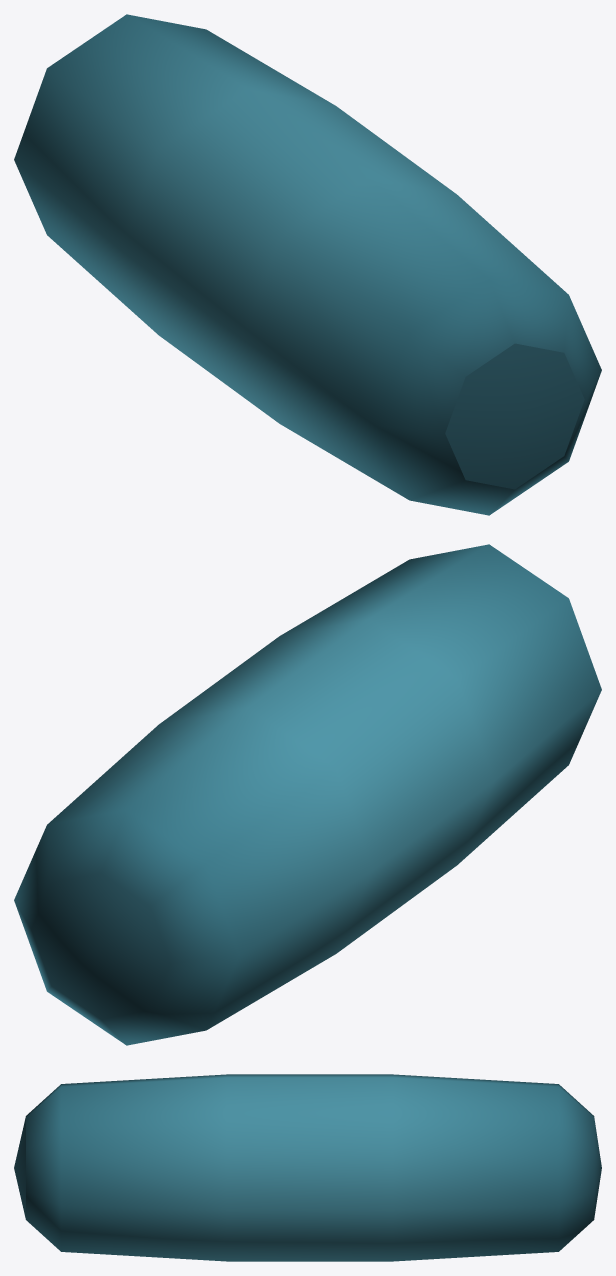
Rendered from microscopic-bacteria-segmented-bacterium_v3.glb.
3 views of the same model, one above another, from view 1: azimuth 30°, elevation 25°; view 2: azimuth 150°, elevation 25°; view 3: azimuth 270°, elevation 25° (orthographic). The views are drawn at different scales.
Parts seen in each view (by area): view 1: Segmented Bacterium_v3; view 2: Segmented Bacterium_v3; view 3: Segmented Bacterium_v3.
Boxes of the visible parts, x1=… form: Segmented Bacterium_v3: x1=14, y1=14, x2=601, y2=515; Segmented Bacterium_v3: x1=14, y1=544, x2=601, y2=1045; Segmented Bacterium_v3: x1=14, y1=1074, x2=601, y2=1261.
Bounding box in the file's own units: 0.2709 × 0.2709 × 0.8.
